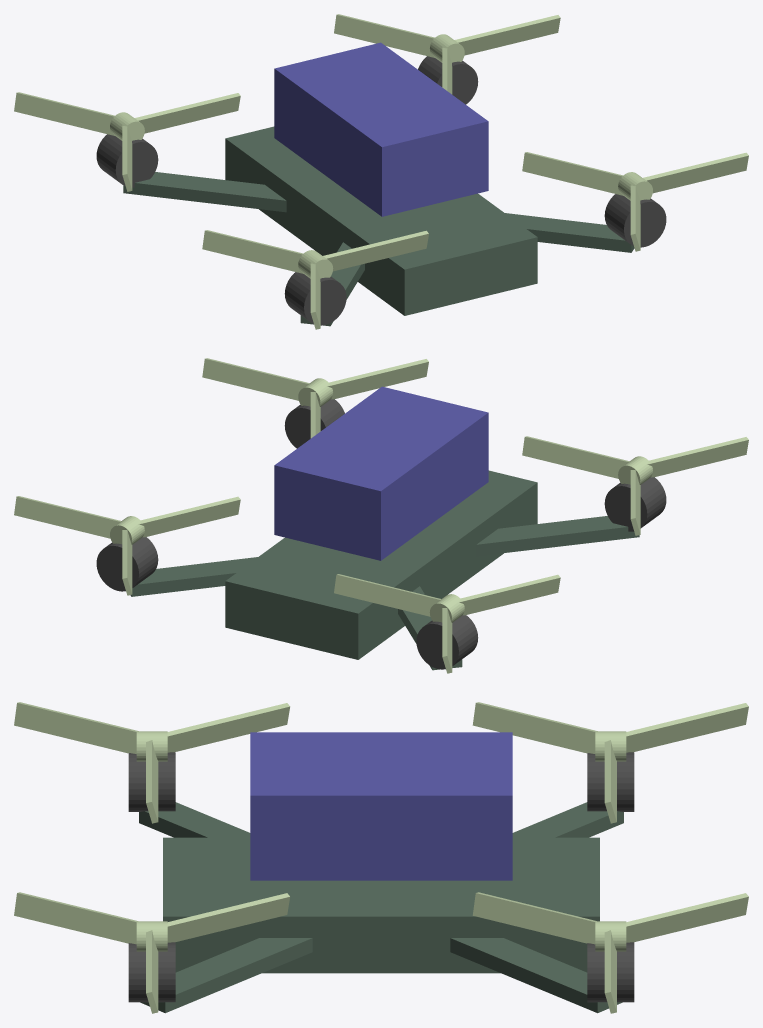
The model's file is SniperX.glb.
3 views of the same model, one above another, from view 1: azimuth 30°, elevation 25°; view 2: azimuth 150°, elevation 25°; view 3: azimuth 270°, elevation 25° (orthographic). The views are drawn at different scales.
Visible parts, largest first — view 1: battery, frame_body, prop_3, prop_0, prop_2, prop_1, arm_3, arm_0, motor_0, motor_2, motor_3, motor_1 (+1 smaller); view 2: battery, frame_body, prop_1, prop_3, prop_2, prop_0, arm_2, arm_1, motor_1, motor_3, motor_2, motor_0 (+1 smaller); view 3: battery, frame_body, prop_0, prop_2, prop_1, prop_3, arm_1, arm_0, arm_2, arm_3, motor_0, motor_1 (+2 smaller).
Boxes of the visible parts, x1,y1,x2,y2 form: battery: (274,42,488,216); frame_body: (225,126,537,315); prop_3: (14,92,240,191); prop_0: (522,152,748,251); prop_2: (202,230,428,329); prop_1: (334,14,560,94); arm_3: (123,172,286,212); arm_0: (505,213,634,252); motor_0: (604,194,666,247); motor_2: (284,272,346,325); motor_3: (96,134,158,187); motor_1: (418,56,478,104); battery: (274,386,488,560); frame_body: (225,470,537,659); prop_1: (14,496,240,595); prop_3: (334,574,560,673); prop_2: (522,436,748,535); prop_0: (202,358,428,438); arm_2: (476,516,639,556); arm_1: (130,557,257,596); motor_1: (96,537,158,591); motor_3: (416,615,478,669); motor_2: (604,477,666,531); motor_0: (284,399,344,448); battery: (250,732,512,880); frame_body: (163,837,599,973); prop_0: (14,892,289,1013); prop_2: (14,702,290,823); prop_1: (472,892,748,1013); prop_3: (472,702,748,823); arm_1: (450,938,622,1013); arm_0: (140,938,312,1013); arm_2: (139,802,250,837); arm_3: (512,802,623,837); motor_0: (128,942,175,1002); motor_1: (587,942,634,1002).
Size of the model in its own units: 0.2209 by 0.06 by 0.2355.
